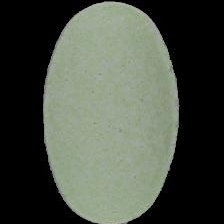43063-364: (0, 0, 224, 224)
